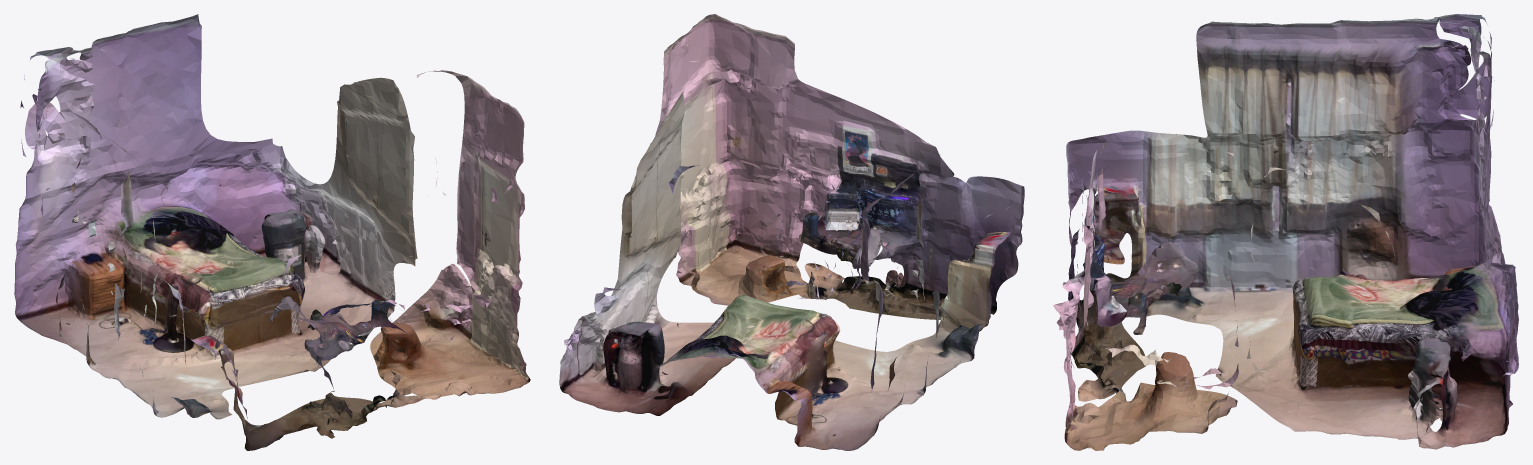
3 renders of one model, left to right at view 1: azimuth 30°, elevation 25°; view 2: azimuth 150°, elevation 25°; view 3: azimuth 270°, elevation 25°, orthographic. The views are drawn at different scales.
Bounding box in the file's own units: 3.81 × 2.97 × 4.3.
1 material, 1 textured.
